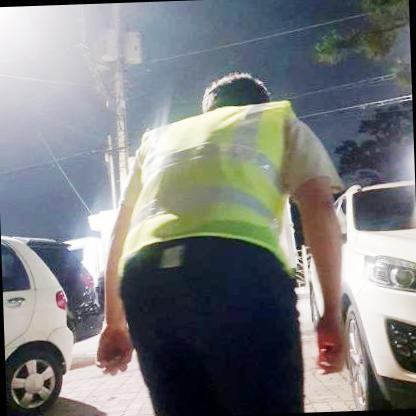vest: (137, 105, 315, 274)
